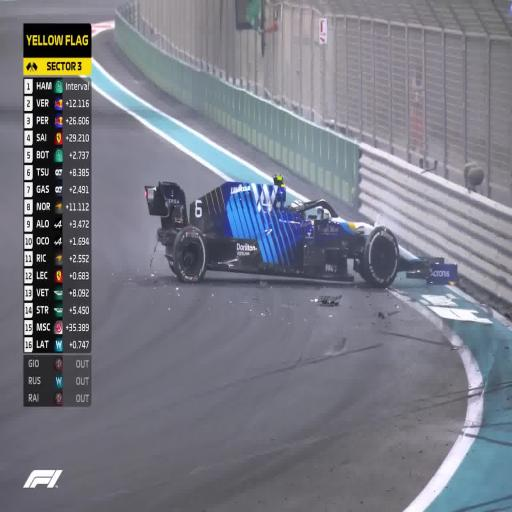f1_car: (145, 176, 457, 287)
